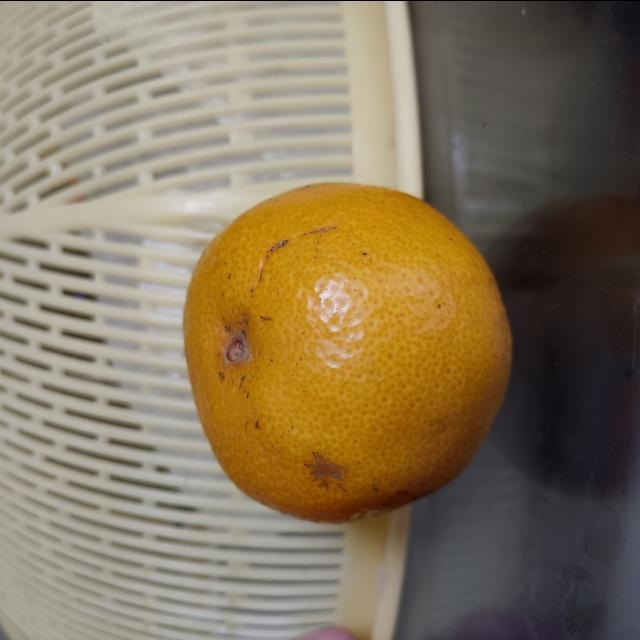agrume: (179, 177, 516, 527)
